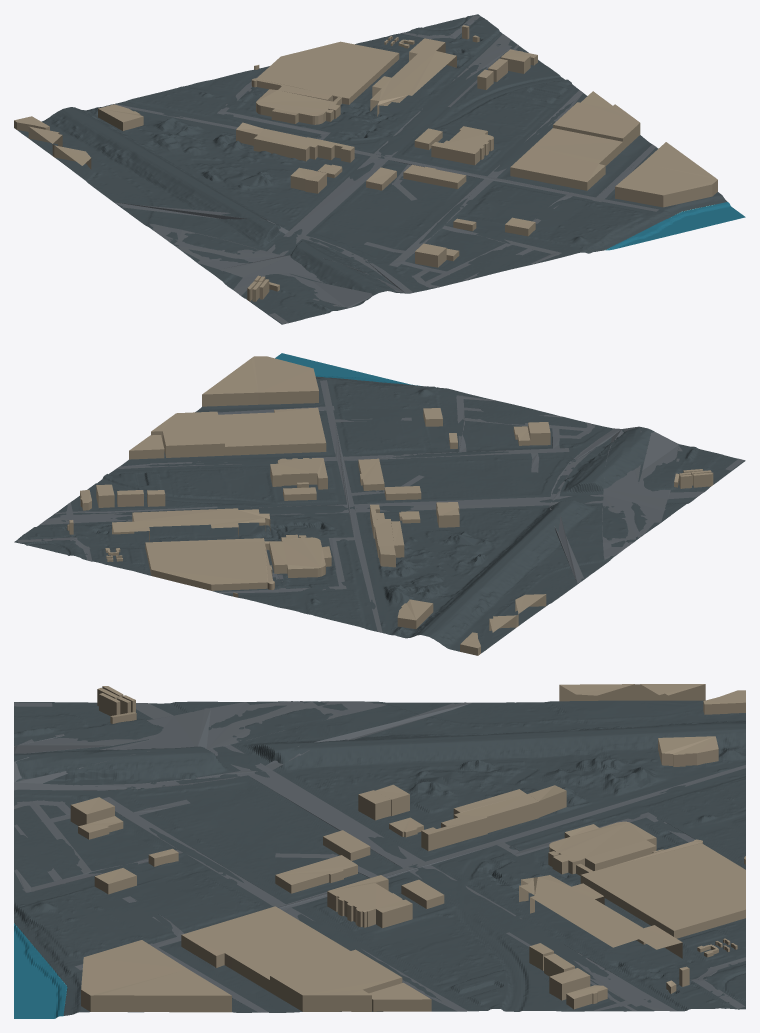
Rendered from epsg26910-1441-10879.lod0.glb.
3 views of the same model, one above another, from view 1: azimuth 30°, elevation 25°; view 2: azimuth 150°, elevation 25°; view 3: azimuth 270°, elevation 25° (orthographic). The views are drawn at different scales.
Parts seen in each view (by area): view 1: epsg26910-1441-10879-lod0; view 2: epsg26910-1441-10879-lod0; view 3: epsg26910-1441-10879-lod0.
Boxes of the visible parts, box(x1,y1,x2,y2) form: epsg26910-1441-10879-lod0: box(14, 14, 745, 324); epsg26910-1441-10879-lod0: box(14, 353, 745, 655); epsg26910-1441-10879-lod0: box(14, 684, 745, 1018).
Size of the model in its own units: 384 by 16.05 by 384.
